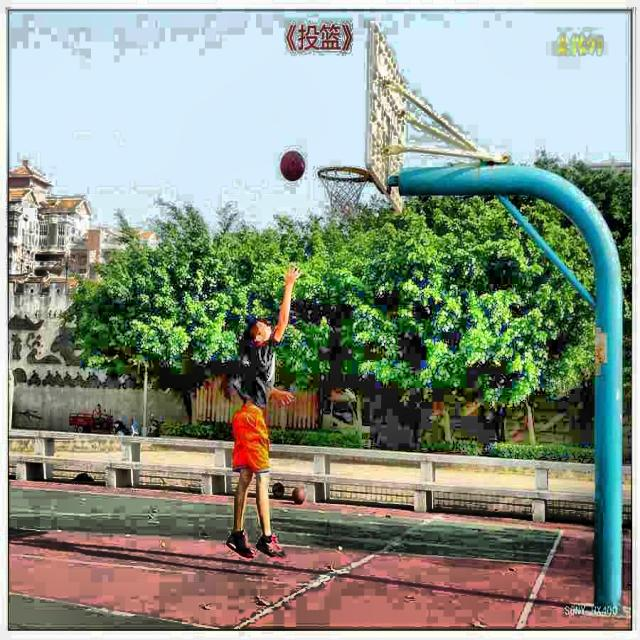board: (280, 150, 305, 181)
rim: (317, 166, 370, 224)
